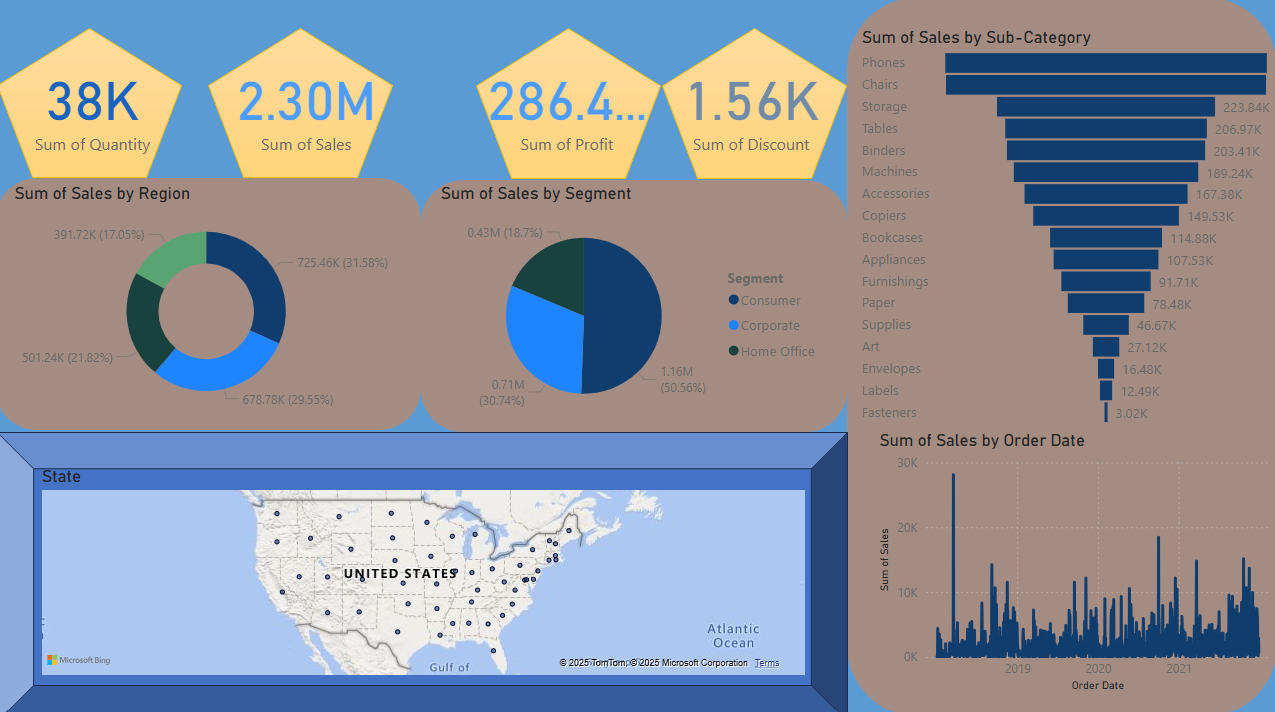

Layout of this report page (visuals, bound fields, positions):
{"tool":"powerbi","page":{"name":"Page 1","canvas":[1280,720],"ordinal":0},"visuals":[{"type":"donutChart","fields":{"Category":["Orders.Region"],"Y":["Sum(Orders.Sales)"]},"box":[0,60,292.5,230],"z":0},{"type":"funnel","fields":{"Category":["Orders.Sub-Category"],"Y":["Sum(Orders.Sales)"]},"box":[0,290,507.5,430],"z":1},{"type":"map","fields":{"Category":["Orders.State"]},"box":[507.5,388.8,772.5,331.2],"z":2},{"type":"pieChart","fields":{"Category":["Orders.Segment"],"Y":["Sum(Orders.Sales)"]},"box":[292.5,60,293.8,230],"z":3},{"type":"lineChart","fields":{"Category":["Orders.Order Date"],"Y":["Sum(Orders.Sales)"]},"box":[586.2,188.8,693.8,200],"z":4},{"type":"card","fields":{"Values":["Sum(Orders.Sales)"]},"box":[777.5,60,173.8,128.8],"z":5},{"type":"card","fields":{"Values":["Sum(Orders.Profit)"]},"box":[951.2,60,172.5,128.8],"z":6},{"type":"card","fields":{"Values":["Sum(Orders.Discount)"]},"box":[1123.8,60,156.2,128.8],"z":7},{"type":"card","fields":{"Values":["Sum(Orders.Quantity)"]},"box":[586.2,60,191.2,128.8],"z":8},{"type":"textbox","box":[0,0,1280,60],"z":9}]}

Visuals, with their boxes in screenshot pixels (x1, y1, x2, y2), scaled from the page's 1280x720 canvas onto the 1275x712 screenshot:
donutChart - Orders.Region x Sum(Orders.Sales): (0, 59, 291, 287)
funnel - Orders.Sub-Category x Sum(Orders.Sales): (0, 287, 506, 711)
map - Orders.State: (506, 384, 1274, 711)
pieChart - Orders.Segment x Sum(Orders.Sales): (291, 59, 584, 287)
lineChart - Orders.Order Date x Sum(Orders.Sales): (584, 187, 1274, 384)
card - Sum(Orders.Sales): (774, 59, 948, 187)
card - Sum(Orders.Profit): (947, 59, 1119, 187)
card - Sum(Orders.Discount): (1119, 59, 1274, 187)
card - Sum(Orders.Quantity): (584, 59, 774, 187)
textbox: (0, 0, 1274, 59)
